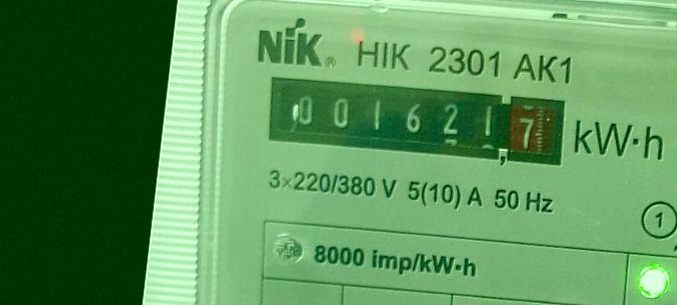0: (328, 93, 354, 132), (293, 91, 317, 127)
1: (479, 101, 497, 139), (368, 96, 386, 133)
2: (439, 100, 464, 138)
6: (402, 100, 425, 136)
7: (513, 114, 537, 152)
screen: (259, 64, 574, 180)
